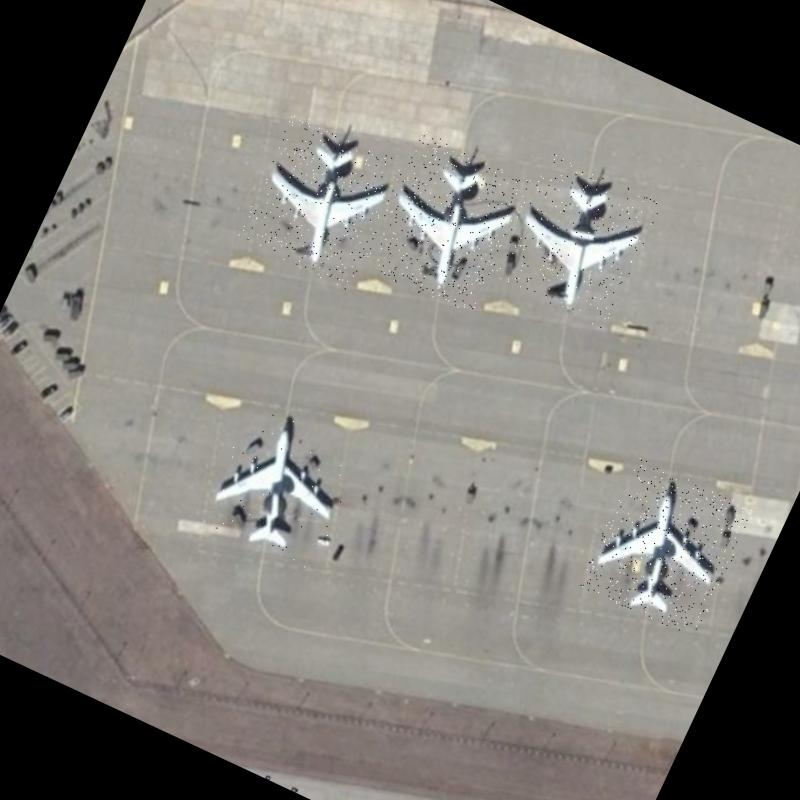A7: (360, 130, 534, 317), (578, 456, 754, 640), (234, 110, 407, 290), (492, 151, 661, 330), (196, 401, 365, 574)
